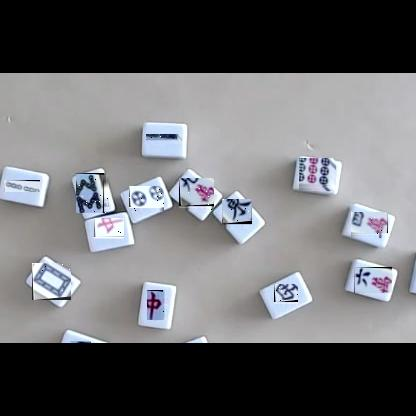1z: (222, 200, 252, 229)
2p: (129, 187, 164, 212)
2s: (4, 180, 40, 192), (147, 135, 182, 144)
3z: (274, 285, 298, 307), (70, 341, 91, 343)
4m: (351, 213, 388, 238)
5z: (32, 263, 71, 300)
6m: (354, 267, 392, 293)
7z: (94, 219, 124, 242), (148, 290, 168, 320)
8s: (77, 173, 109, 213)
9m: (179, 179, 214, 211)
9p: (300, 159, 336, 191)
